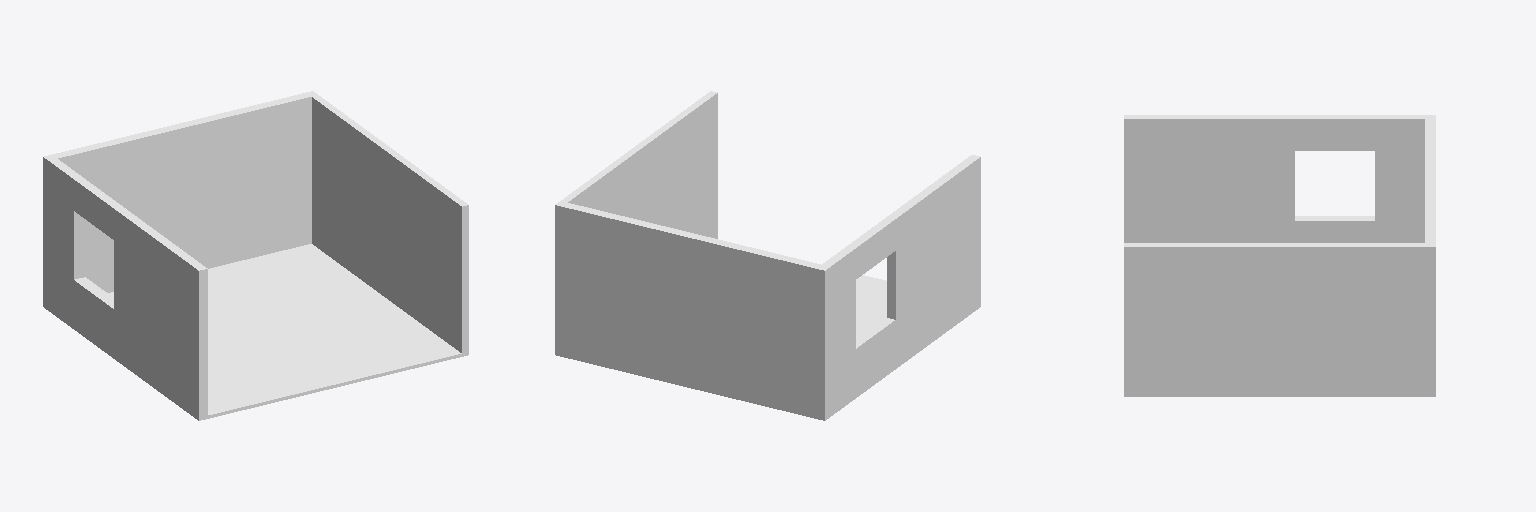
Rendered from cabin_room.obj.
3 renders of one model, left to right at view 1: azimuth 30°, elevation 25°; view 2: azimuth 150°, elevation 25°; view 3: azimuth 270°, elevation 25°, orthographic.
Parts seen in each view (by area): view 1: mesh01; view 2: mesh01; view 3: mesh01.
Boxes of the visible parts, <box> form: mesh01: <box>43,91,468,420</box>; mesh01: <box>555,91,980,420</box>; mesh01: <box>1124,115,1435,396</box>.
Bounding box in the file's own units: 409 × 218 × 409.